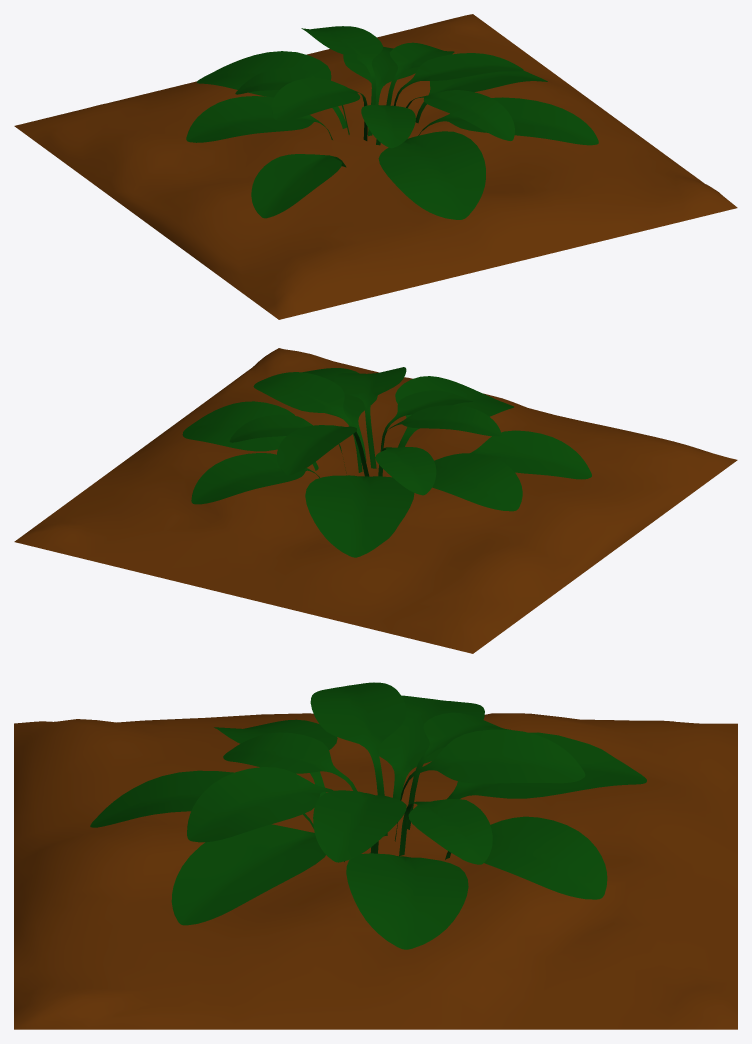
The model's file is violets-p1-bloom.glb.
3 renders of one model, top to bottom at view 1: azimuth 30°, elevation 25°; view 2: azimuth 150°, elevation 25°; view 3: azimuth 270°, elevation 25°, orthographic. The views are drawn at different scales.
Visible parts, largest first — view 1: 1_nft_bloom; view 2: 1_nft_bloom; view 3: 1_nft_bloom.
Boxes of the visible parts, x1,y1,x2,y2 form: 1_nft_bloom: (14,14,737,319); 1_nft_bloom: (14,348,737,653); 1_nft_bloom: (14,682,737,1029).
Size of the model in its own units: 0.7 by 0.1453 by 0.7.
